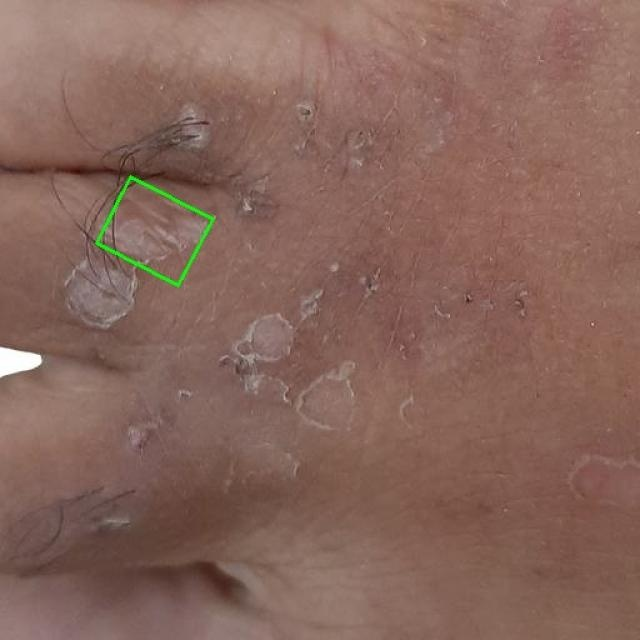Eczema: (96, 176, 213, 286)
